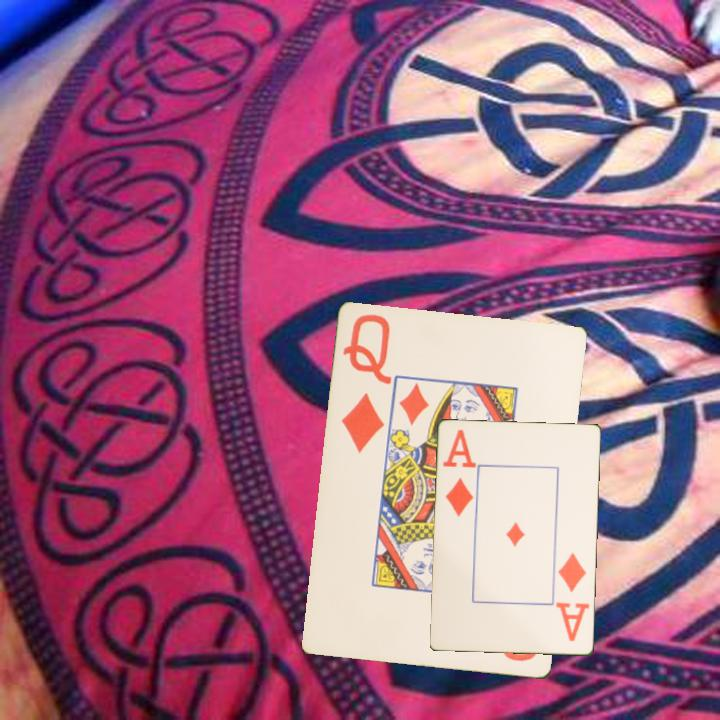Ad: (553, 549, 592, 644), (440, 426, 478, 520)
Qd: (337, 310, 394, 457)
